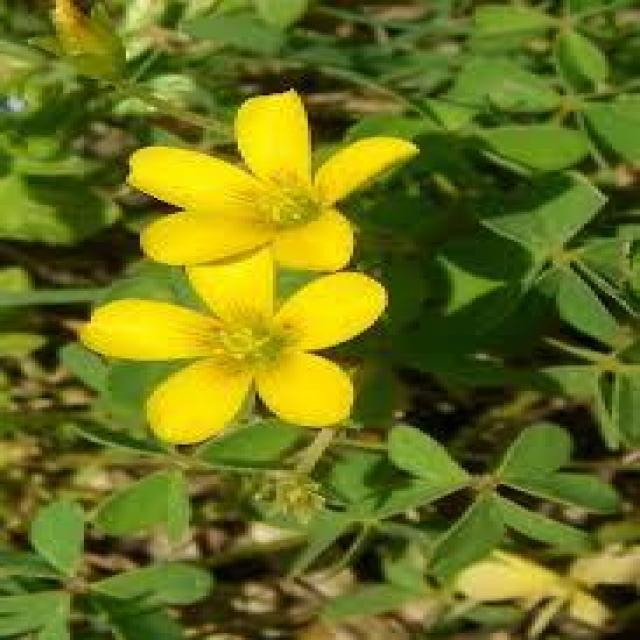organic waste: (76, 230, 400, 440), (117, 85, 415, 266)
